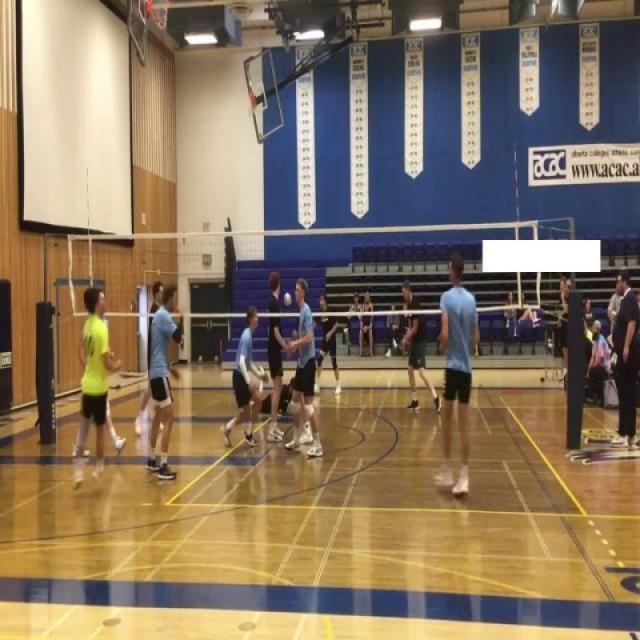volleyball: (283, 292, 292, 306), (198, 355, 203, 365), (214, 355, 219, 364)
